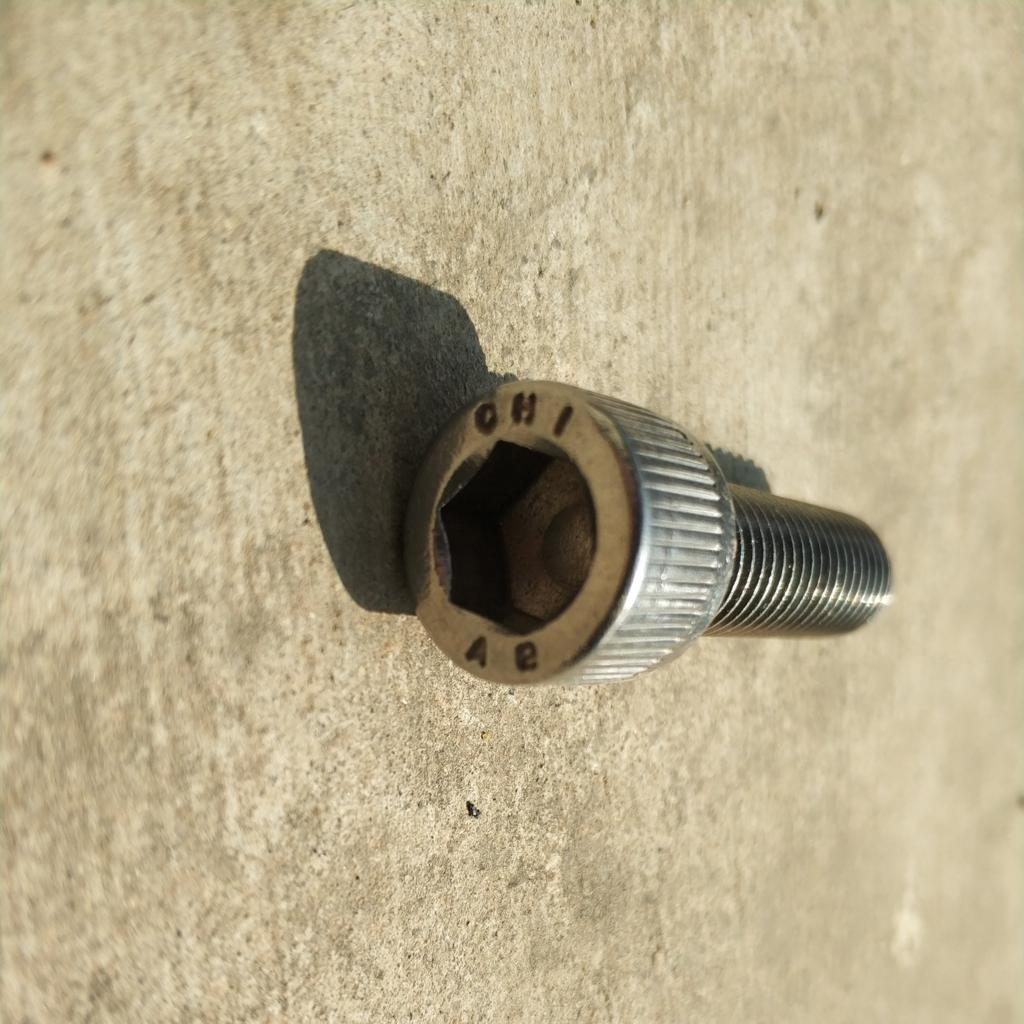screwtype1silver: (395, 374, 894, 710)
